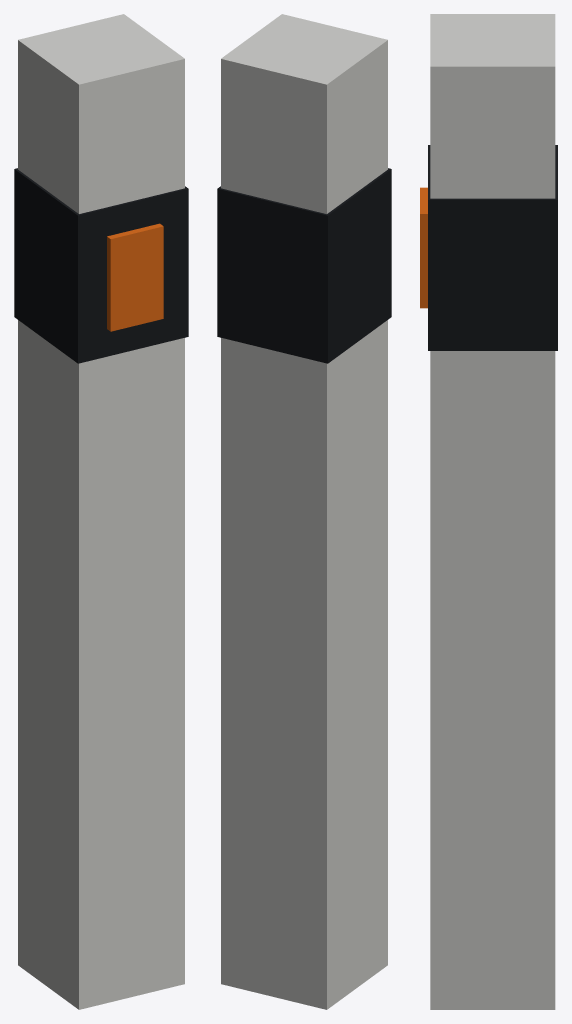
The model's file is sn_trk_delineator.glb.
3 renders of one model, left to right at view 1: azimuth 30°, elevation 25°; view 2: azimuth 150°, elevation 25°; view 3: azimuth 270°, elevation 25°, orthographic.
Parts seen in each view (by area): view 1: sn_trk_delineator; view 2: sn_trk_delineator; view 3: sn_trk_delineator.
Part boxes in pixels (x1=…): sn_trk_delineator: x1=14, y1=14, x2=188, y2=1009; sn_trk_delineator: x1=217, y1=14, x2=391, y2=1009; sn_trk_delineator: x1=420, y1=14, x2=557, y2=1009.
Size of the model in its own units: 0.125 by 1 by 0.1325.
